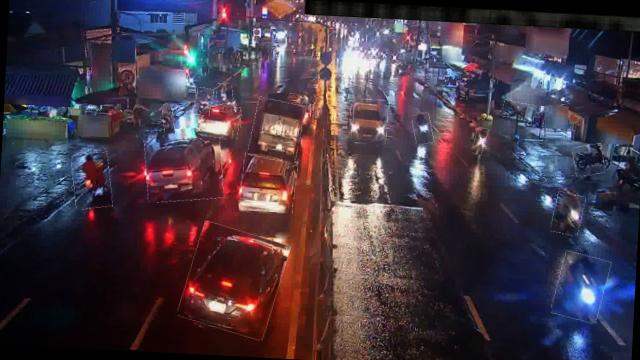Bike: (554, 252, 608, 322), (70, 150, 113, 210), (550, 191, 583, 235), (570, 143, 604, 177), (411, 112, 433, 145), (501, 100, 535, 121), (194, 88, 212, 116), (472, 126, 487, 155), (160, 103, 174, 134), (216, 82, 233, 104)
Car: (180, 224, 286, 337), (142, 124, 225, 204), (239, 153, 297, 214), (350, 97, 388, 144), (200, 102, 240, 138)
Truck: (249, 98, 304, 162)
